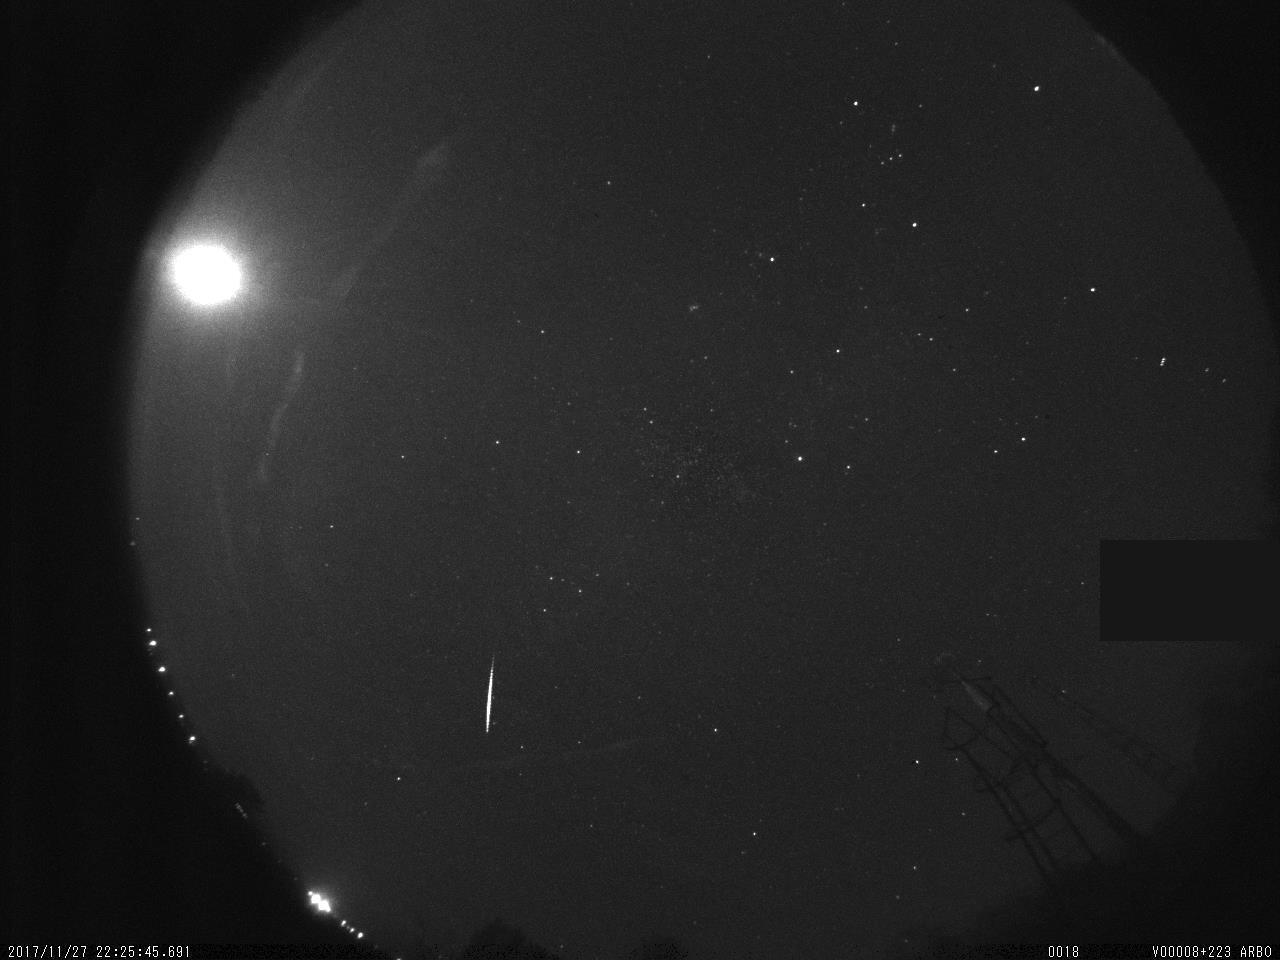Meteor: (479, 647, 495, 733)
